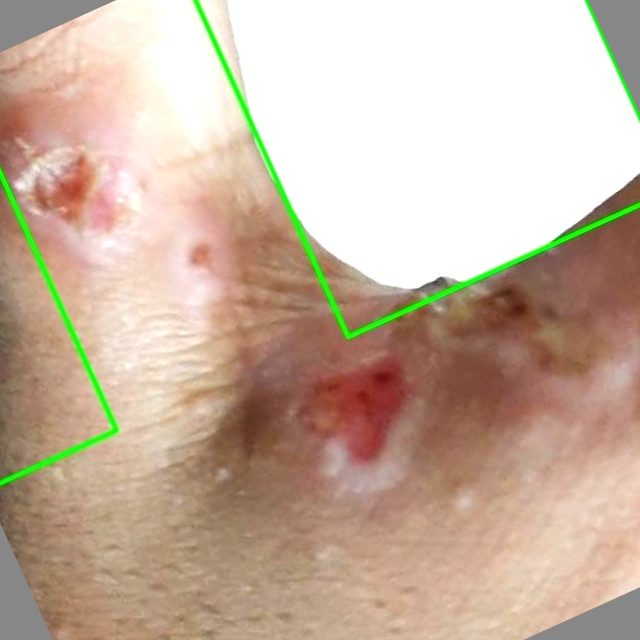Scabies: (194, 0, 639, 337)
